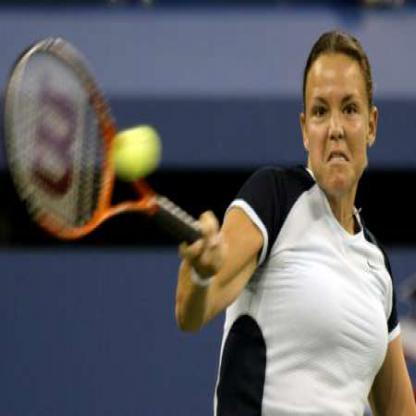face: (307, 35, 371, 194)
